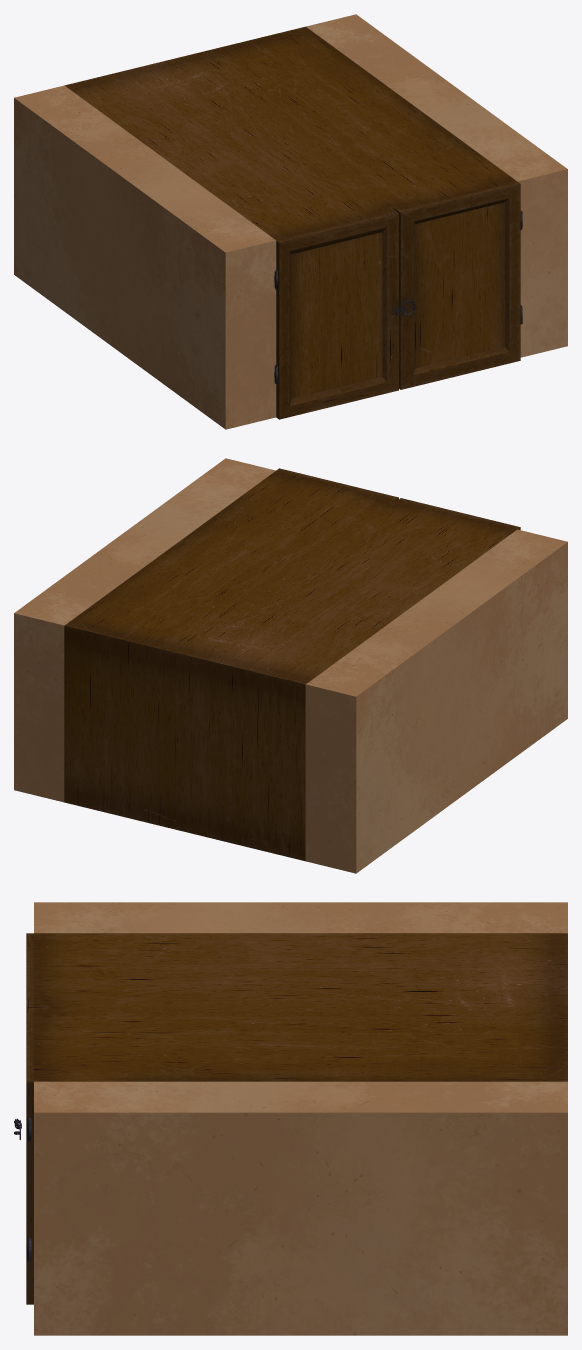
The model's file is SM_Closet01a.fbx.
3 views of the same model, one above another, from view 1: azimuth 30°, elevation 25°; view 2: azimuth 150°, elevation 25°; view 3: azimuth 270°, elevation 25° (orthographic). The views are drawn at different scales.
Parts seen in each view (by area): view 1: SM_Closet01a; view 2: SM_Closet01a; view 3: SM_Closet01a.
Part boxes in pixels (x1=…): SM_Closet01a: x1=14, y1=14, x2=567, y2=429; SM_Closet01a: x1=14, y1=458, x2=567, y2=873; SM_Closet01a: x1=14, y1=902, x2=567, y2=1335.
Size of the model in its own units: 99.36 by 49.09 by 110.
1 material, 1 textured.
